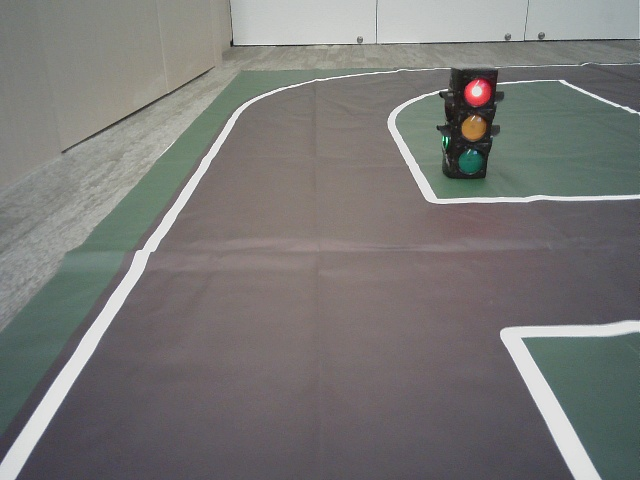red: (457, 74, 490, 176)
